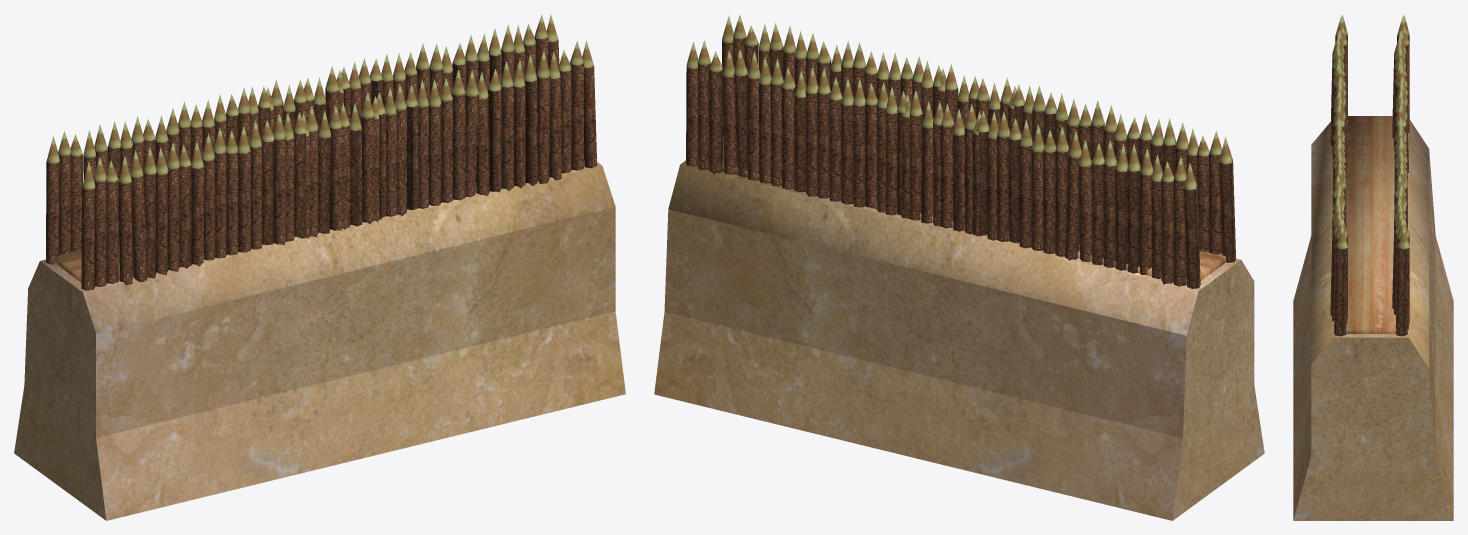
Rendered from xion_wall_med.dae.
The picture shows the model from 3 angles, left to right: view 1: azimuth 30°, elevation 25°; view 2: azimuth 150°, elevation 25°; view 3: azimuth 270°, elevation 25°; orthographic projection. The views are drawn at different scales.
Visible parts, largest first — view 1: wall_med; view 2: wall_med; view 3: wall_med.
Part boxes in pixels (bbox=[...]): wall_med: bbox=[14, 14, 625, 520]; wall_med: bbox=[654, 14, 1264, 520]; wall_med: bbox=[1293, 14, 1453, 520].
Size of the model in its own units: 24.85 by 7.65 by 15.53.
